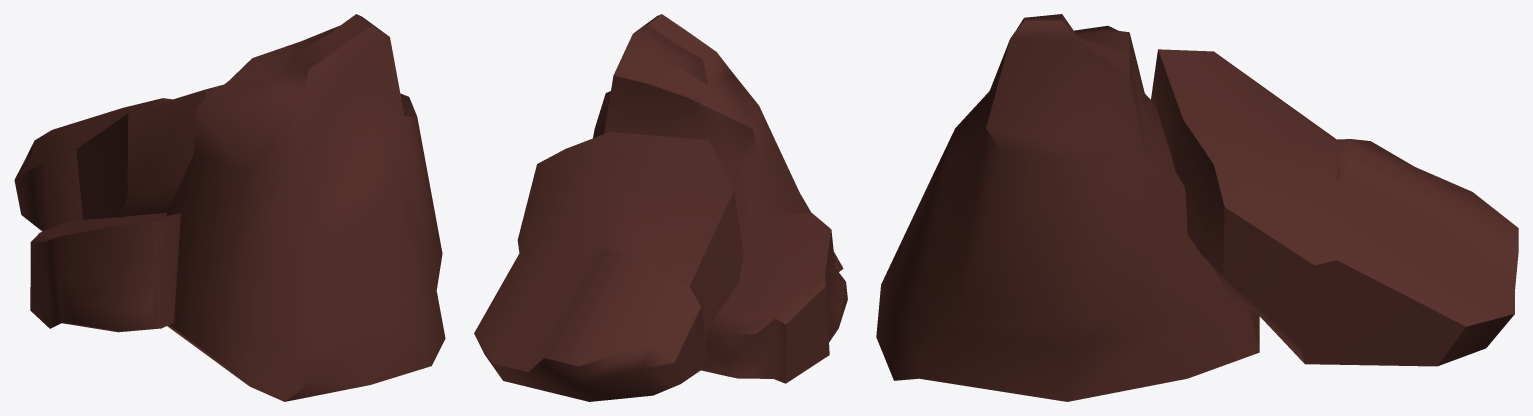
The model's file is SM_rock_complex_A.fbx.
3 views of the same model, side by side, from view 1: azimuth 30°, elevation 25°; view 2: azimuth 150°, elevation 25°; view 3: azimuth 270°, elevation 25° (orthographic). The views are drawn at different scales.
Visible parts, largest first — view 1: pCube12; view 2: pCube12; view 3: pCube12.
Part boxes in pixels (x1=…): pCube12: x1=14, y1=14, x2=445, y2=401; pCube12: x1=474, y1=14, x2=847, y2=401; pCube12: x1=876, y1=14, x2=1518, y2=401.
Size of the model in its own units: 422 by 364 by 593.
